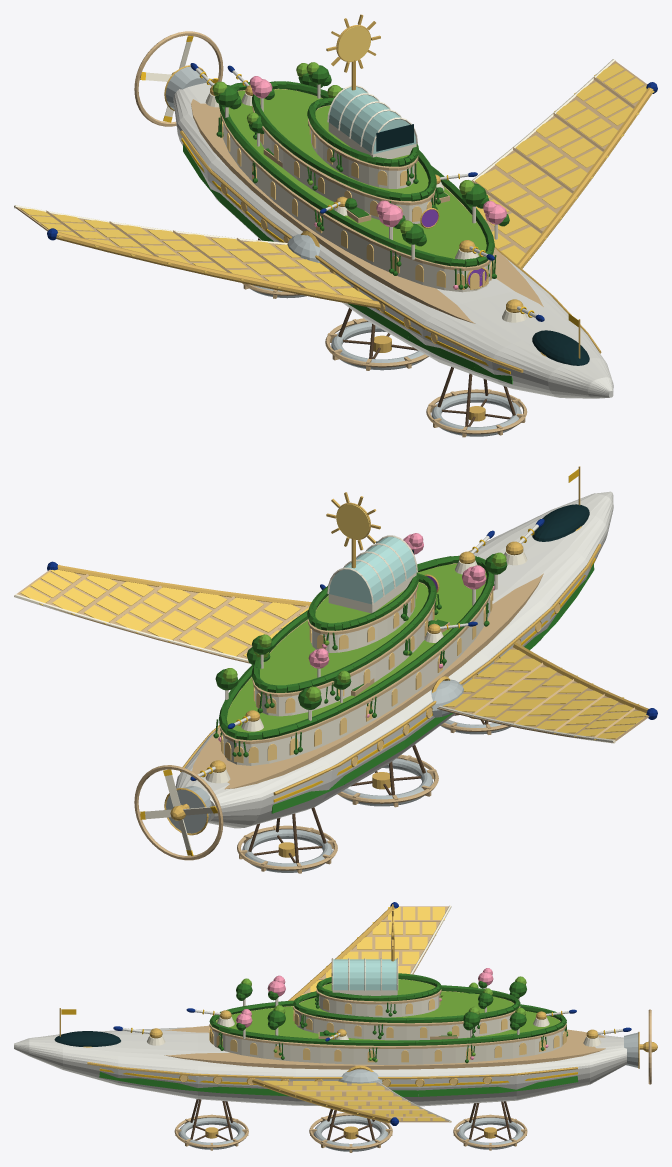
File: cruiser.obj
3 views of the same model, one above another, from view 1: azimuth 30°, elevation 25°; view 2: azimuth 150°, elevation 25°; view 3: azimuth 270°, elevation 25° (orthographic). The views are drawn at different scales.
Visible parts, largest first — view 1: cruiser; view 2: cruiser; view 3: cruiser.
Boxes of the visible parts, <box> form: cruiser: <box>14,14,657,437</box>; cruiser: <box>14,466,657,873</box>; cruiser: <box>14,902,657,1152</box>.
Bounding box in the file's own units: 644 × 316 × 800.
Materials: 1 (1 with a texture image).
